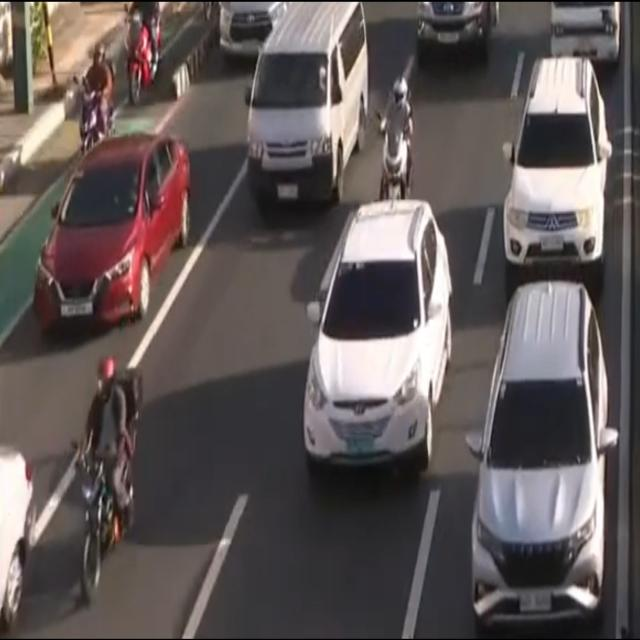Motorcycle: (70, 354, 144, 606), (373, 75, 414, 210), (73, 41, 114, 156), (124, 0, 161, 104)
SUV: (464, 280, 620, 634), (302, 197, 453, 478), (502, 53, 611, 291), (412, 0, 500, 71)
Sedan: (32, 132, 190, 342)
Van: (245, 0, 368, 206)
